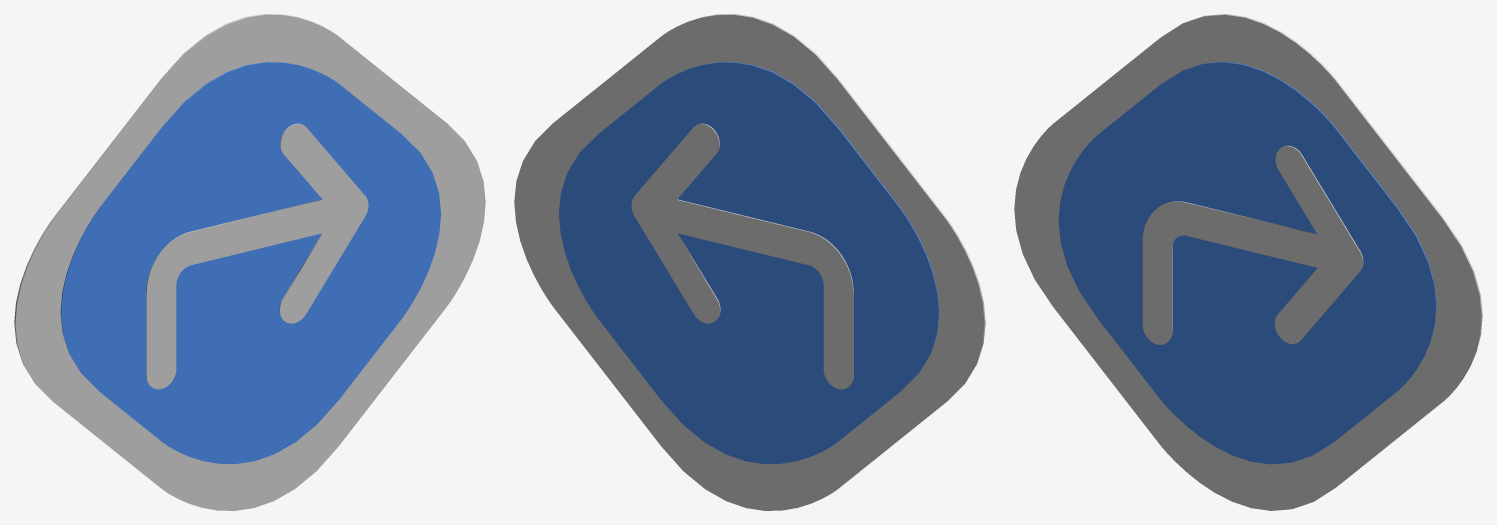
Rendered from right.glb.
The picture shows the model from 3 angles, left to right: view 1: azimuth 30°, elevation 25°; view 2: azimuth 150°, elevation 25°; view 3: azimuth 330°, elevation 25°; orthographic projection.
Parts seen in each view (by area): view 1: Curve.002, Curve.001, Curve.003; view 2: Curve.002, Curve.001, Curve.003; view 3: Curve.002, Curve.001, Curve.003.
Boxes of the visible parts, bbox=[...] form: Curve.002: bbox=[60, 62, 440, 463]; Curve.001: bbox=[14, 14, 485, 510]; Curve.003: bbox=[146, 123, 368, 389]; Curve.002: bbox=[559, 62, 939, 463]; Curve.001: bbox=[514, 14, 985, 510]; Curve.003: bbox=[631, 123, 853, 389]; Curve.002: bbox=[1058, 61, 1436, 464]; Curve.001: bbox=[1014, 14, 1482, 510]; Curve.003: bbox=[1142, 145, 1363, 344].
Bounding box in the file's own units: 0.9579 × 0.9577 × 0.012.
